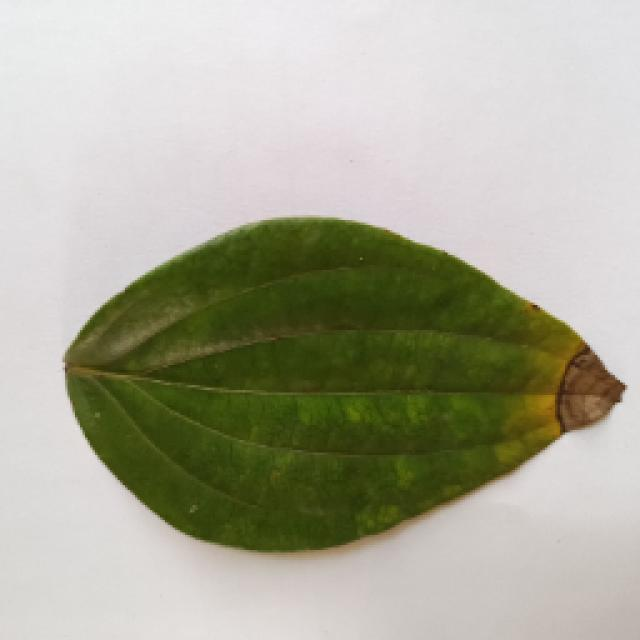footrot: (52, 223, 622, 565)
